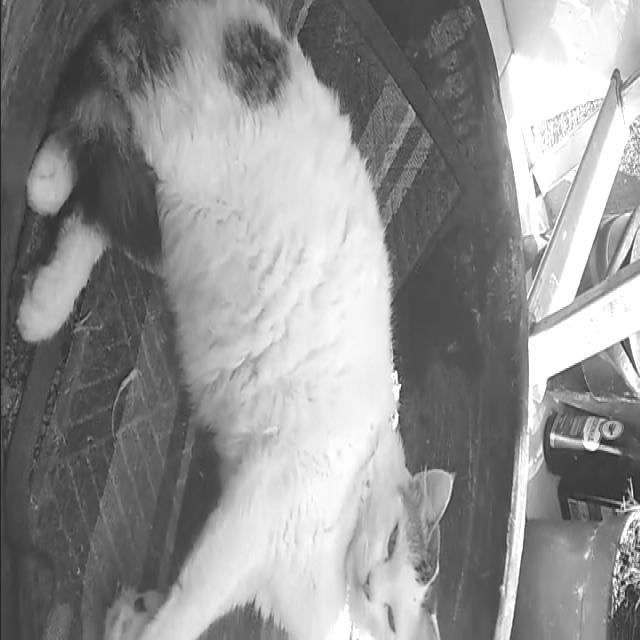Simba: (1, 16, 465, 638)
